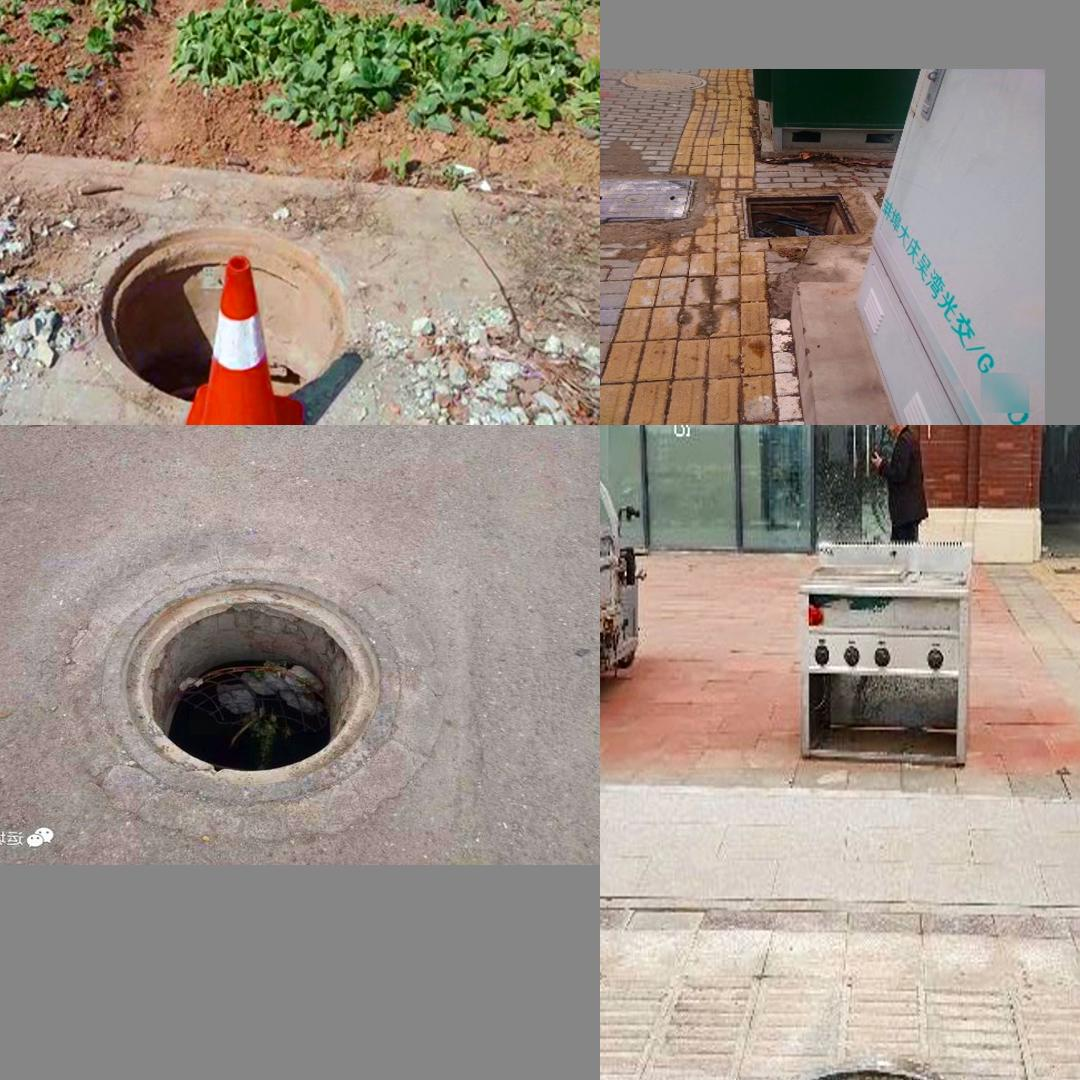good: (601, 178, 693, 222)
lose: (92, 571, 422, 808), (87, 213, 365, 412), (702, 1043, 1041, 1080), (738, 193, 860, 238)
